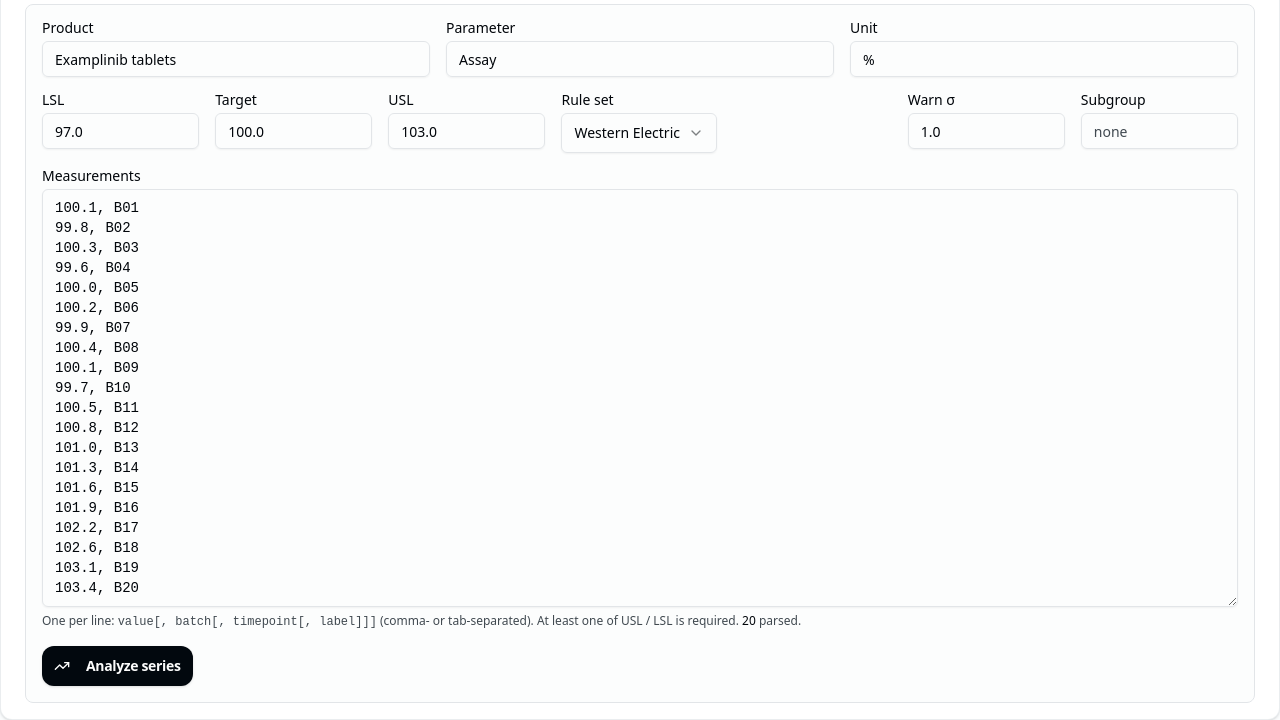
Scenario: SPCProcessCapabilityPanel › surfaces the early-warning lead banner when lead_points > 0
The width and height of the screenshot is (1280, 720).
(page scrolled)
Click the button "Analyze series" at coordinates (117, 666), box top-left (42, 646), bottom-right (192, 686)
(page scrolled)
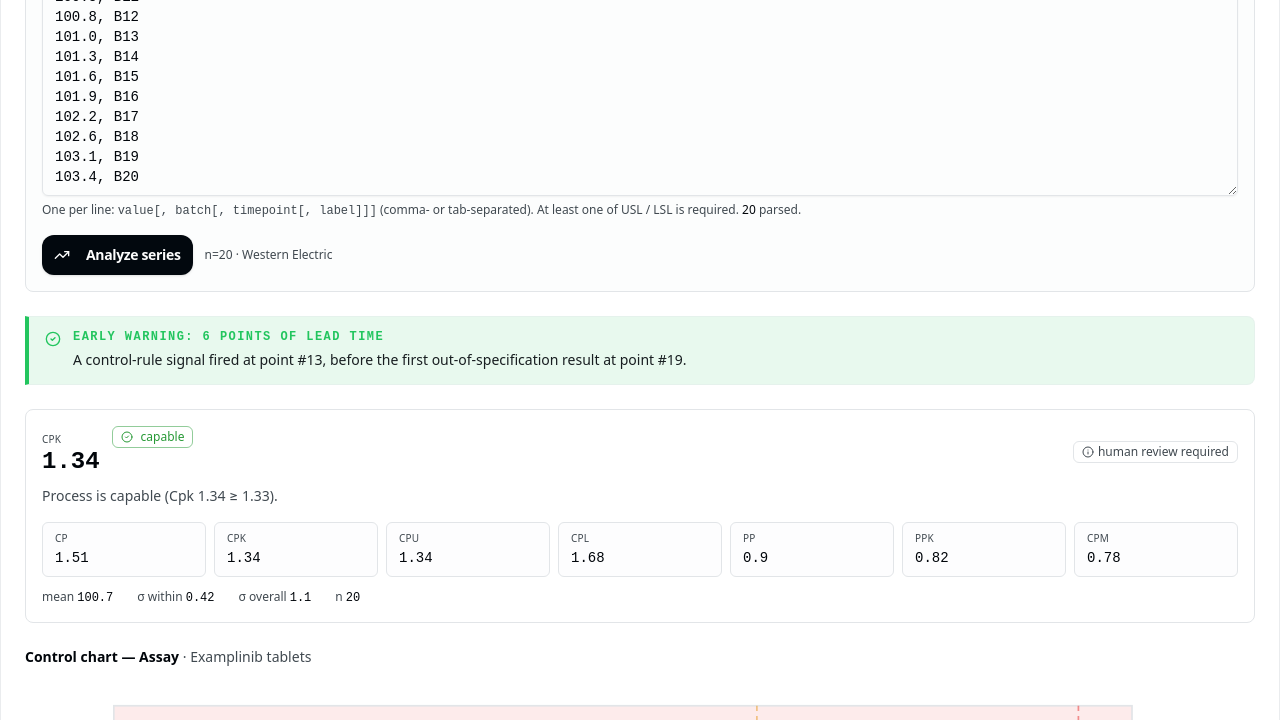
expect the text "Early warning: 6 points of lead time" is shown: met, box top-left (73, 330), bottom-right (384, 344)
expect the text "point #19" is shown: met, box top-left (73, 350), bottom-right (687, 369)
